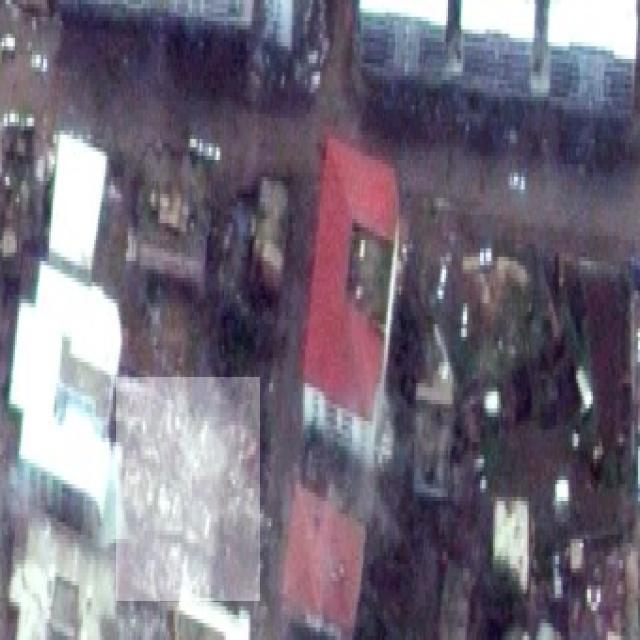Rubble: (116, 377, 260, 601)
